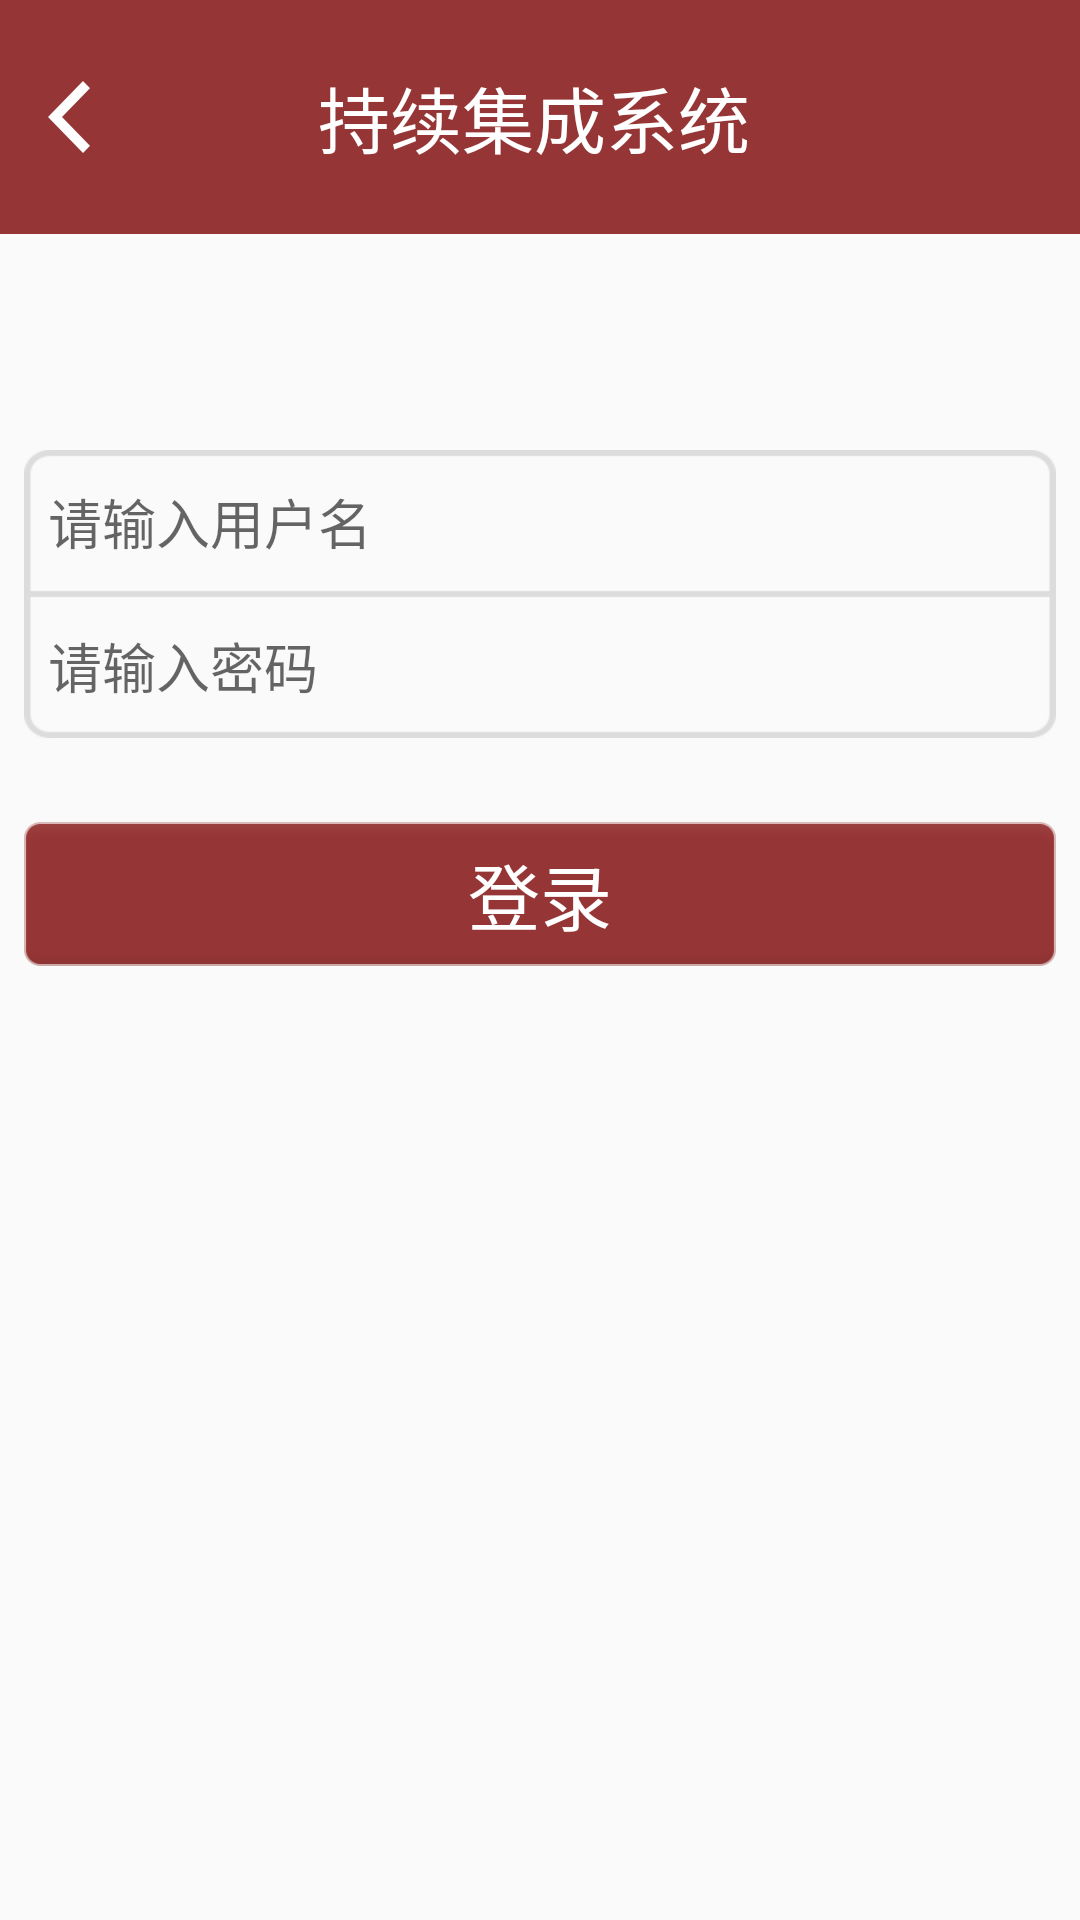

Icon bounding boxes for this 1080px x 1920px phone screenshot, format (x1, y1, x2, y2):
back: (48, 81, 90, 153)
